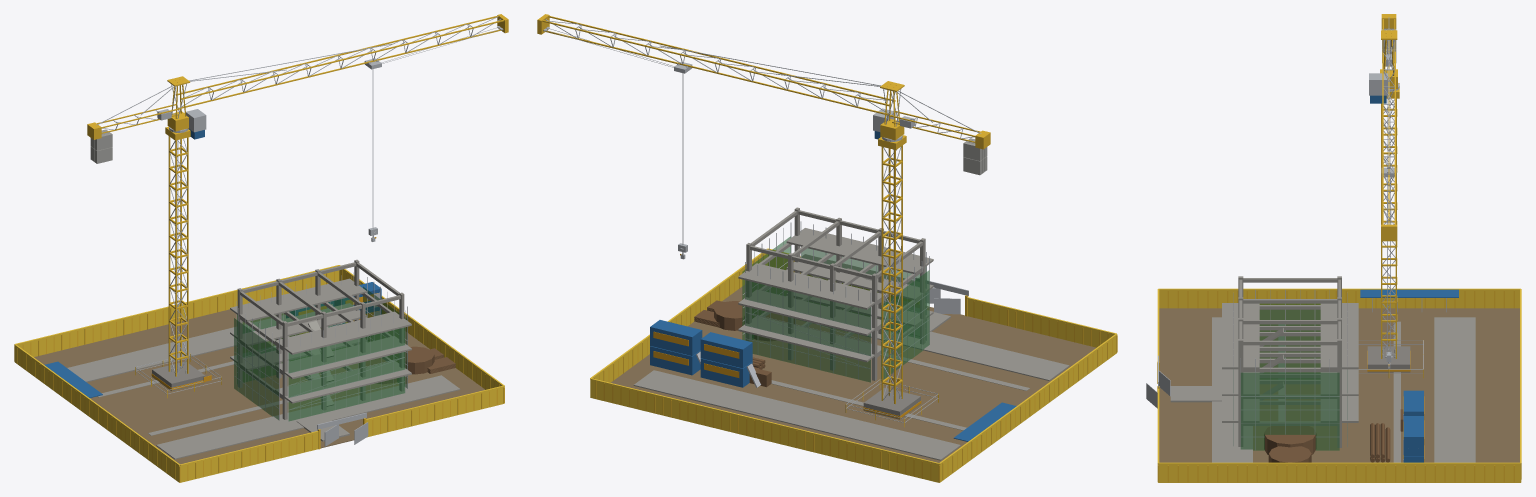
File: construction_site.glb
The picture shows the model from 3 angles, left to right: view 1: azimuth 30°, elevation 25°; view 2: azimuth 150°, elevation 25°; view 3: azimuth 270°, elevation 25°; orthographic projection. The views are drawn at different scales.
Visible parts, largest first — view 1: Site_Concrete, Site_Earth, Site_Hoard, Site_Net, Crane_Yellow, Crane_Metal, Site_Material, Site_Cabin, Crane_Footing, Crane_Weight; view 2: Site_Concrete, Site_Earth, Site_Hoard, Site_Net, Crane_Yellow, Crane_Metal, Site_Cabin, Site_Material, Site_Warn, Crane_Footing, Crane_Weight; view 3: Site_Earth, Site_Concrete, Site_Hoard, Site_Net, Crane_Yellow, Crane_Metal, Site_Material, Site_Cabin, Crane_Footing.
Boxes of the visible parts, <box> form: Site_Concrete: <box>67,259,460,459</box>; Site_Earth: <box>34,309,484,464</box>; Site_Hoard: <box>14,265,504,482</box>; Site_Net: <box>234,286,407,421</box>; Crane_Yellow: <box>14,14,508,482</box>; Crane_Metal: <box>90,16,503,446</box>; Site_Material: <box>282,334,455,383</box>; Site_Cabin: <box>44,128,381,397</box>; Crane_Footing: <box>152,361,205,391</box>; Crane_Weight: <box>90,129,112,163</box>; Site_Concrete: <box>633,207,1069,460</box>; Site_Earth: <box>611,282,1096,462</box>; Site_Hoard: <box>590,248,1117,482</box>; Site_Net: <box>742,236,929,382</box>; Crane_Yellow: <box>537,14,1117,482</box>; Crane_Metal: <box>543,19,981,442</box>; Site_Cabin: <box>650,131,1016,441</box>; Site_Material: <box>694,300,794,387</box>; Site_Warn: <box>653,254,921,418</box>; Crane_Footing: <box>863,387,920,419</box>; Crane_Weight: <box>963,138,987,175</box>; Site_Earth: <box>1159,308,1519,462</box>; Site_Concrete: <box>1170,276,1475,462</box>; Site_Hoard: <box>1157,288,1521,482</box>; Site_Net: <box>1241,303,1347,450</box>; Crane_Yellow: <box>1157,14,1521,482</box>; Crane_Metal: <box>1146,17,1446,462</box>; Site_Material: <box>1264,409,1403,462</box>; Site_Cabin: <box>1360,95,1458,462</box>; Crane_Footing: <box>1367,346,1410,372</box>.
Bounding box in the file's own units: 6.64 × 4.42 × 4.56.
